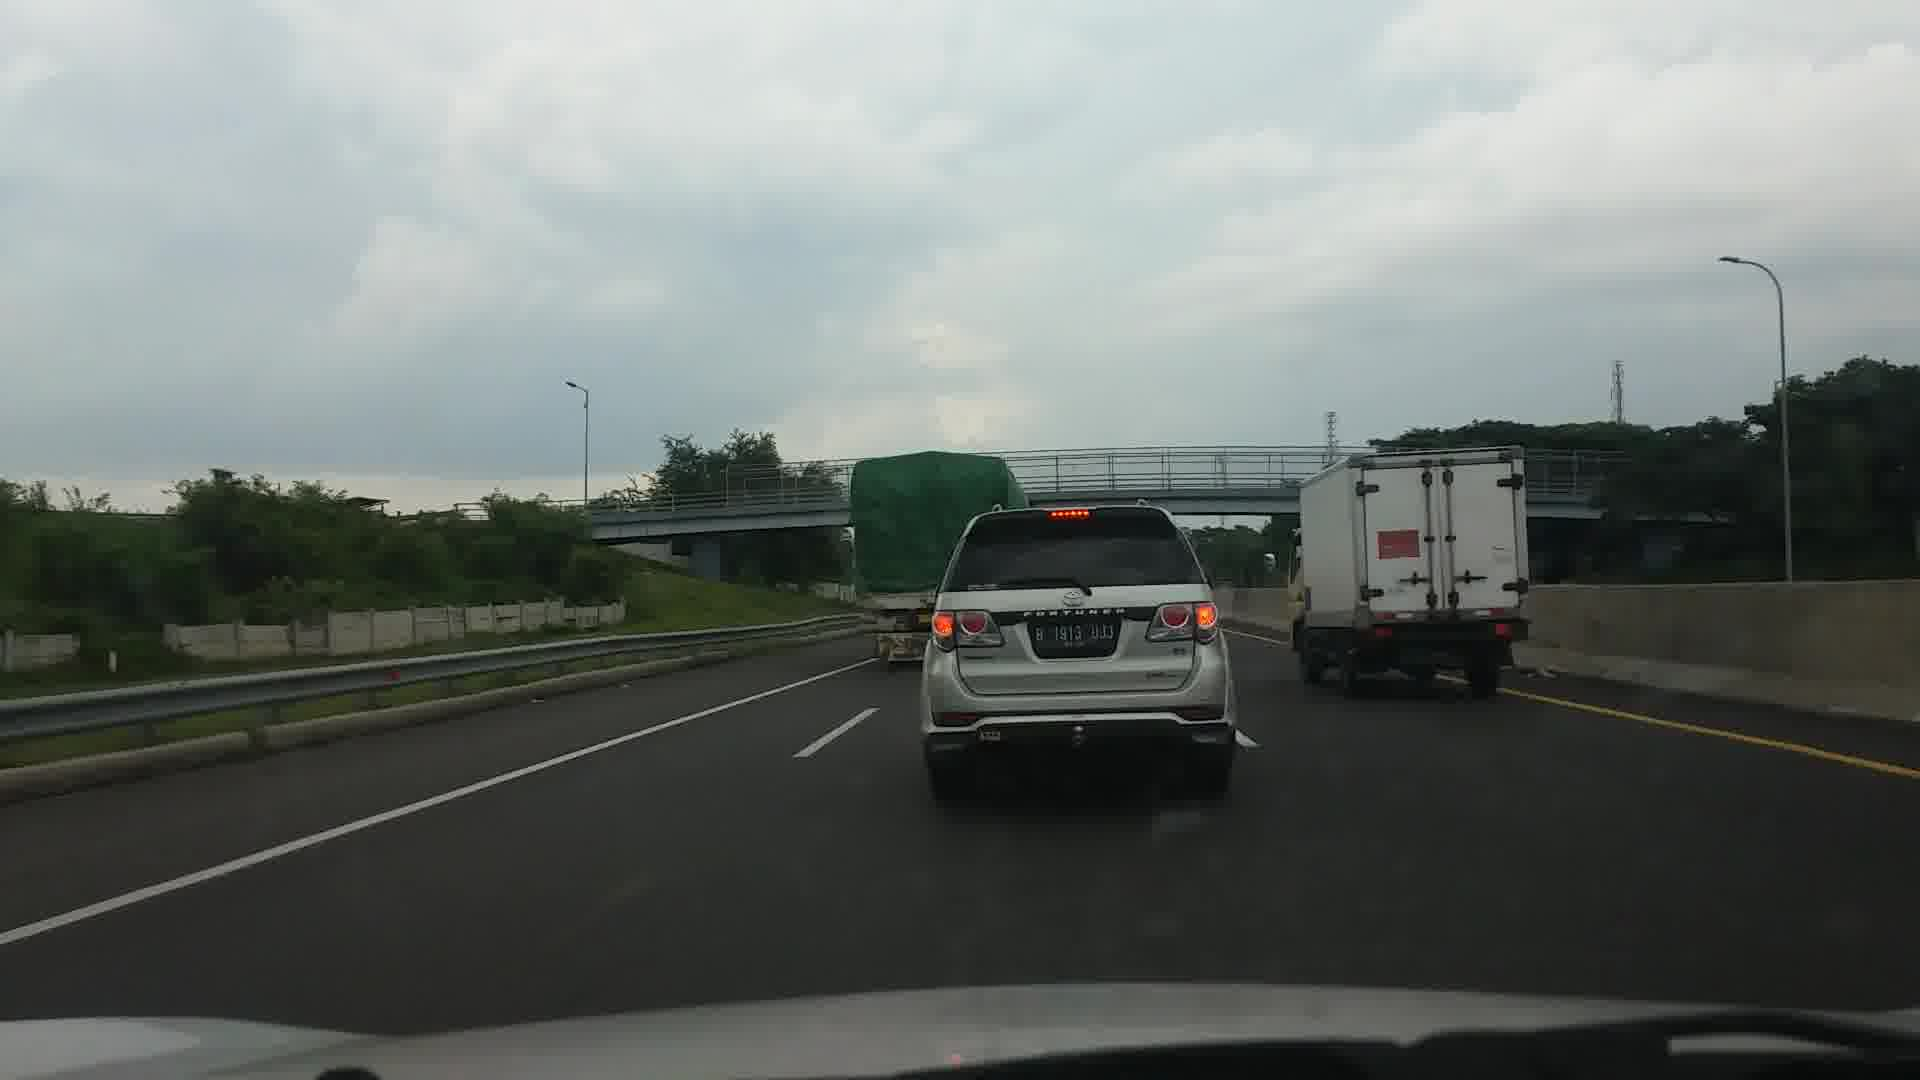plate_positive: (1033, 622, 1116, 650)
